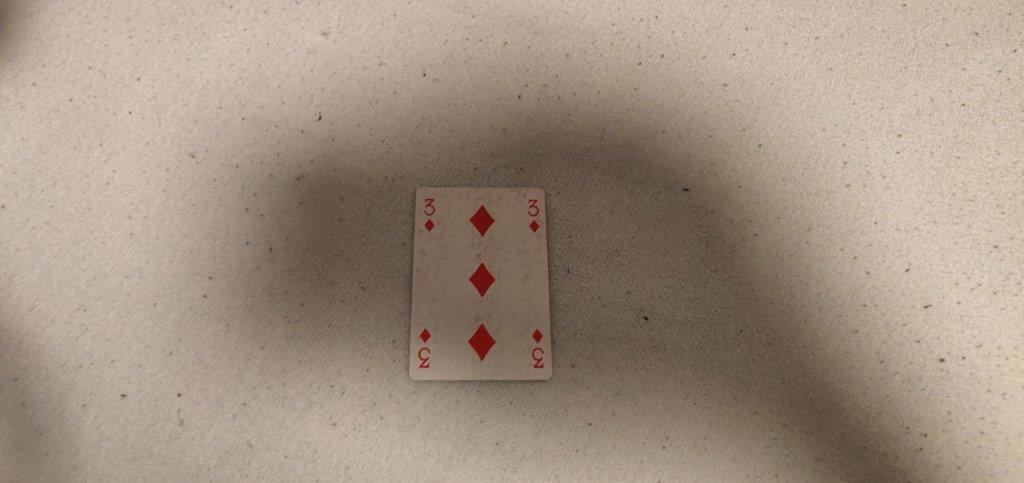3D: (419, 194, 439, 235), (523, 196, 541, 234)
